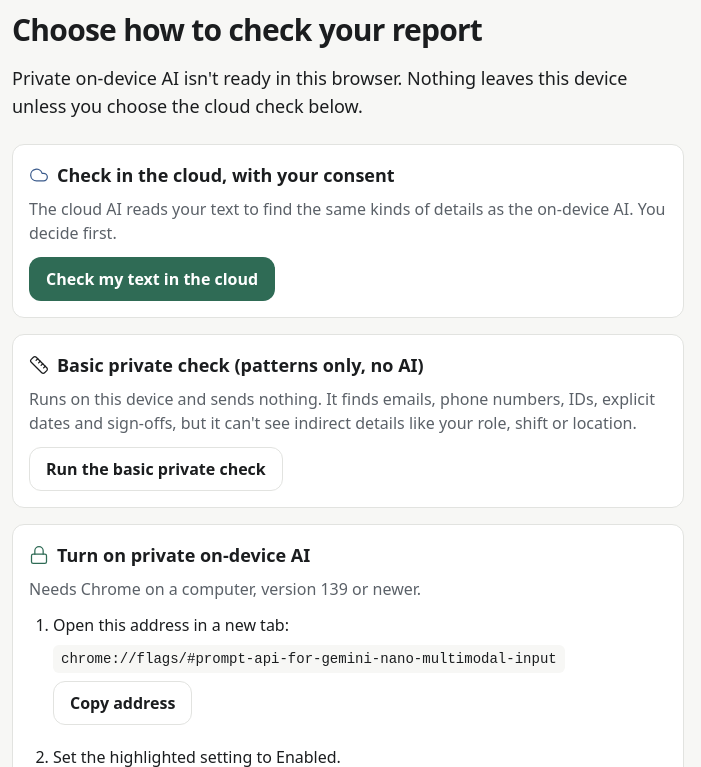
it: EnableOnDeviceSteps copy button › copies the flag address and confirms it
What coordinates should you click on to do the following:
click the button "Copy address"
I would click on:
 (123, 703)
Its box is [53, 681, 192, 725].
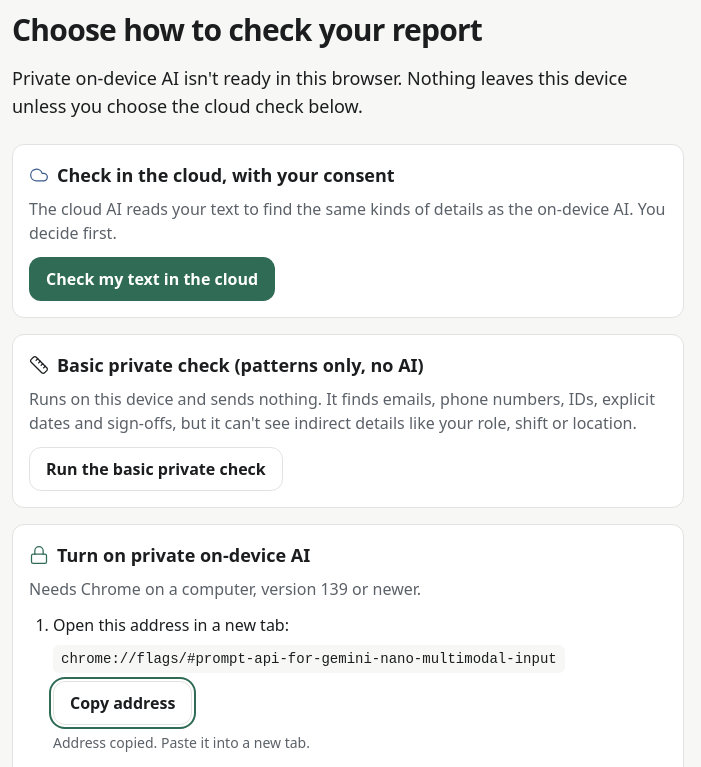
Expected: the text "Address copied. Paste it into a new tab." is shown, [53, 733, 310, 752]
